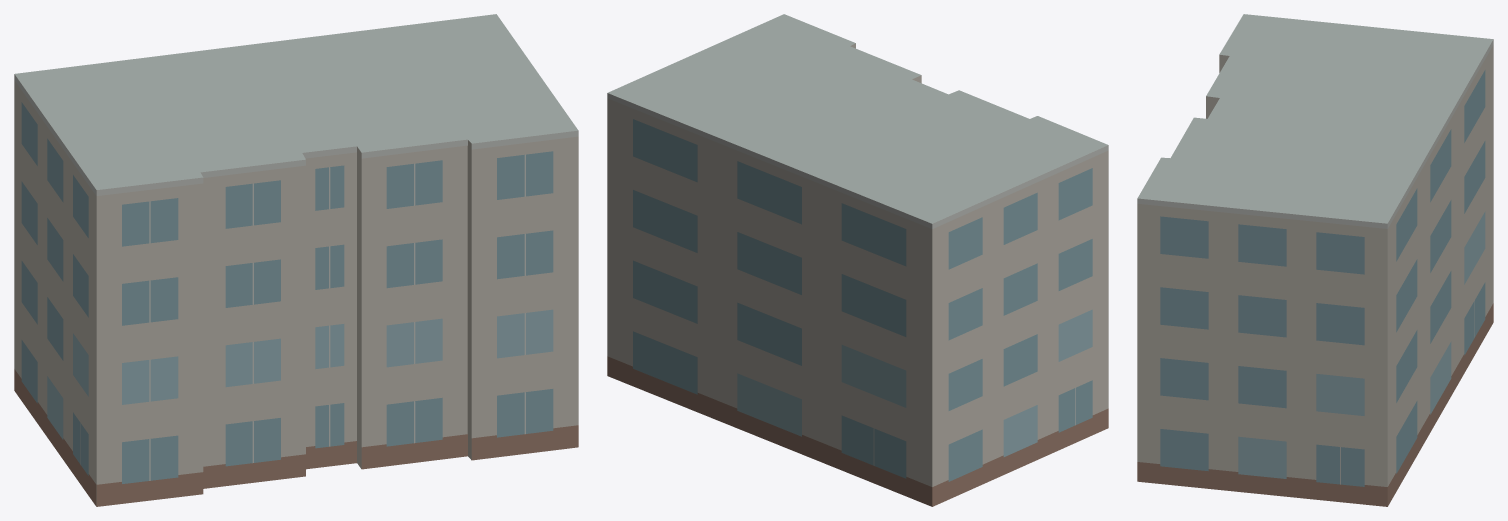
File: survey-upis-32528101.glb
3 renders of one model, left to right at view 1: azimuth 30°, elevation 25°; view 2: azimuth 150°, elevation 25°; view 3: azimuth 270°, elevation 25°, orthographic. The views are drawn at different scales.
Parts seen in each view (by area): view 1: survey-upis-32528101.tmp; view 2: survey-upis-32528101.tmp; view 3: survey-upis-32528101.tmp.
Part boxes in pixels (bbox=[...]): survey-upis-32528101.tmp: bbox=[14, 14, 578, 506]; survey-upis-32528101.tmp: bbox=[607, 14, 1108, 506]; survey-upis-32528101.tmp: bbox=[1137, 14, 1493, 506].
Bounding box in the file's own units: 20.65 × 13 × 14.83.
